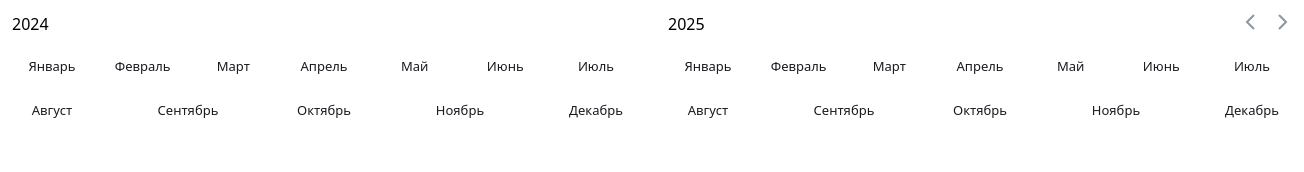
Test: Компонент CalendarYearRange › При клике на правую стрелку, каждый год смещается вперед (2024-2025 -> 2025-2026)
Click the 2nd button. click: point(1282, 22)
box: [1272,12,1292,32]
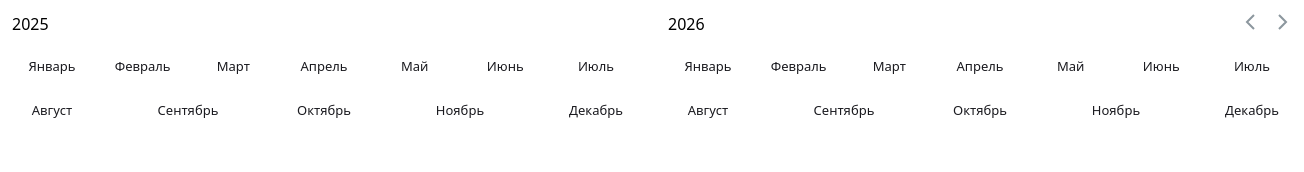
Expected: the text "2025" is shown, [12,13,49,35]
Now the text "2026" is shown, box [668,13,705,35]
